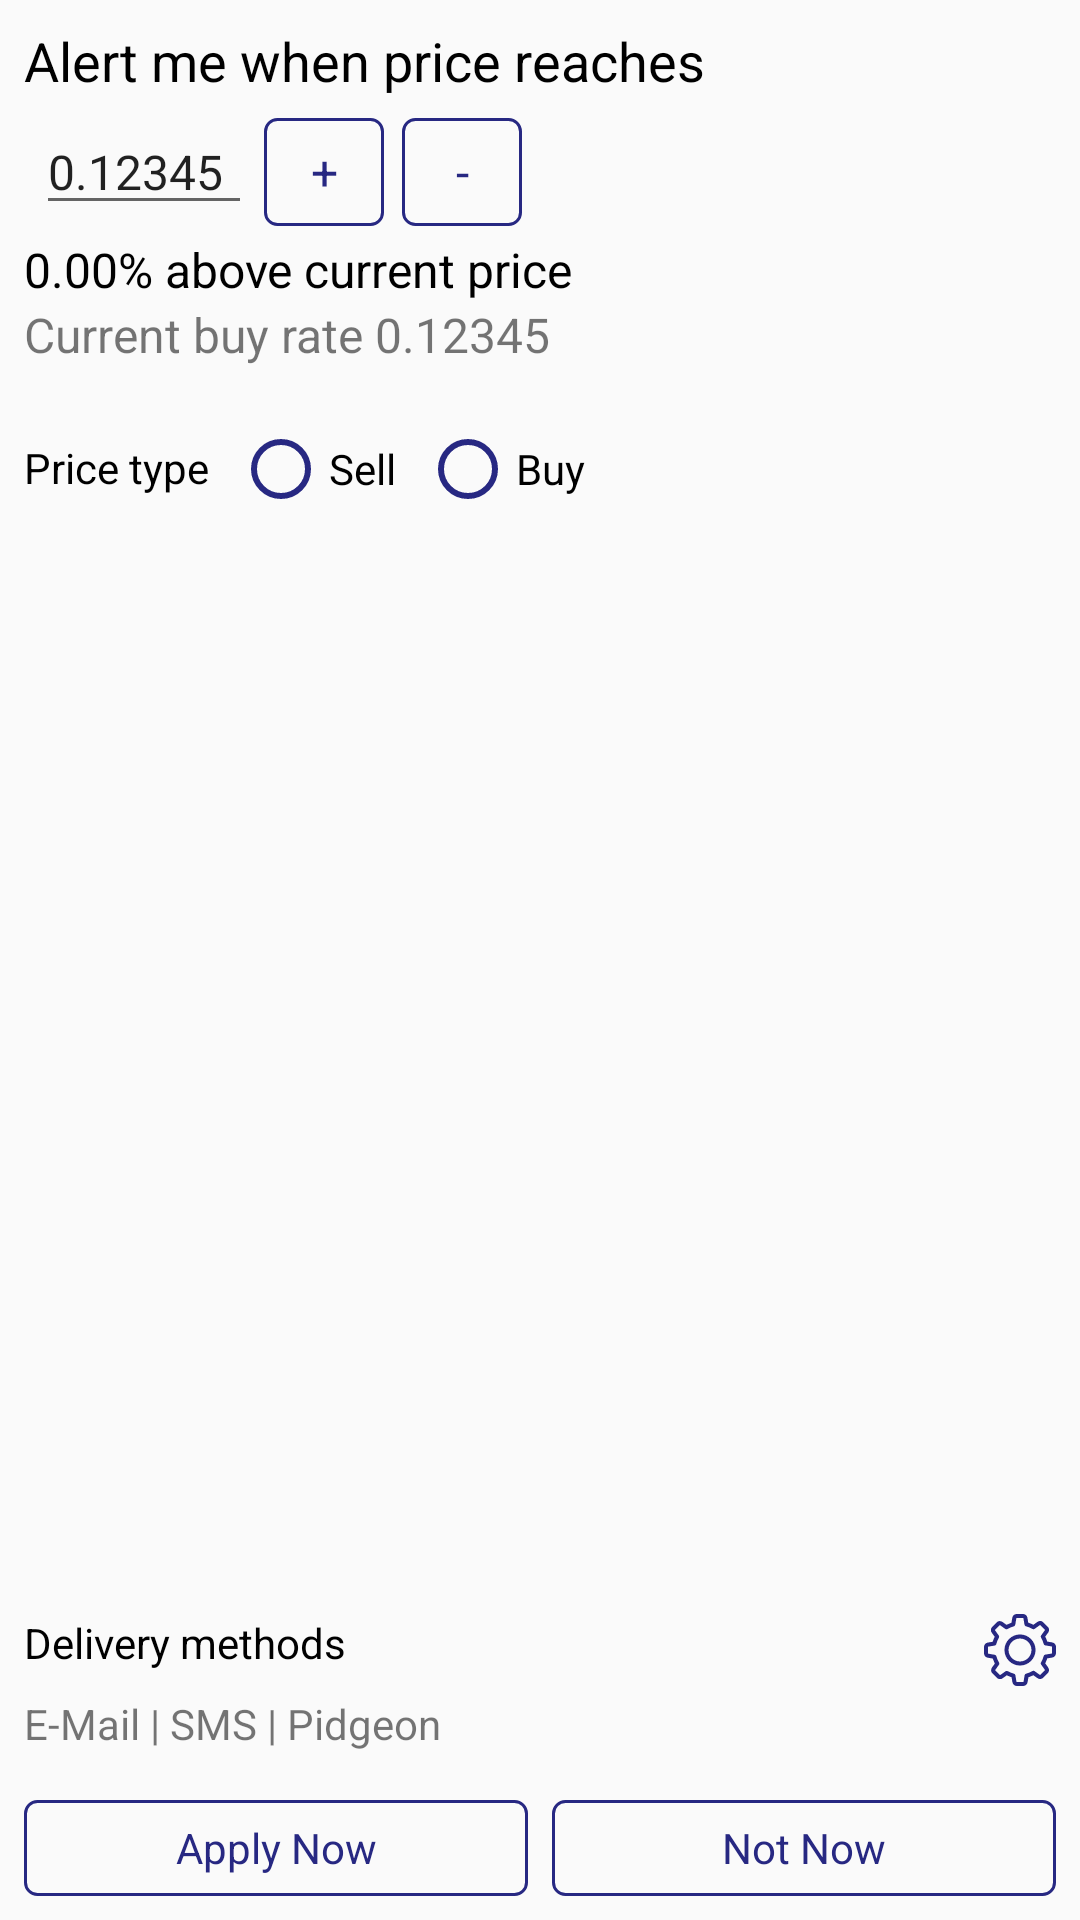

Point at icon controls on the screen. Image size 1080×1920, points as point (x, y).
settings: point (1020, 1650)
